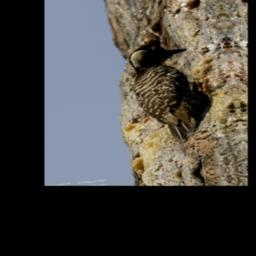Woodpecker: (126, 38, 218, 149)
